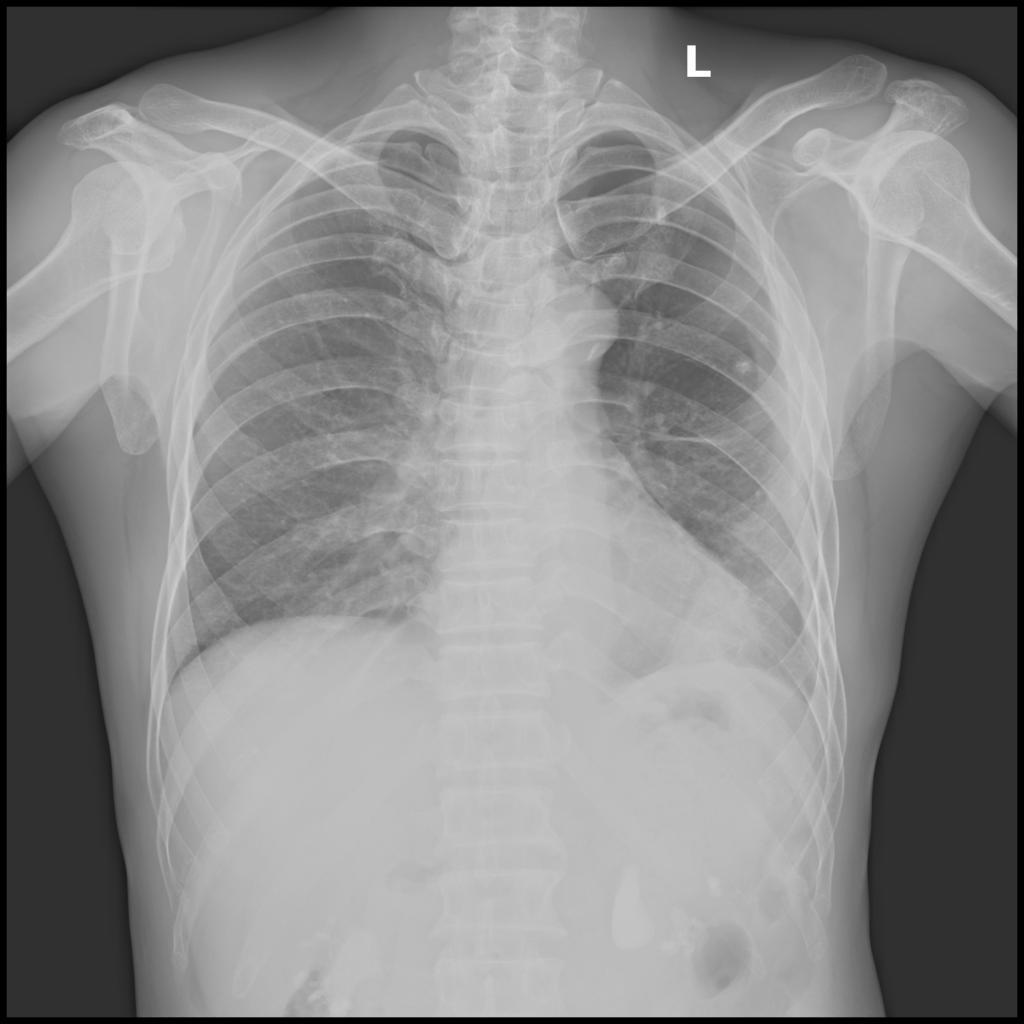Nodule: (657, 202, 669, 229)
